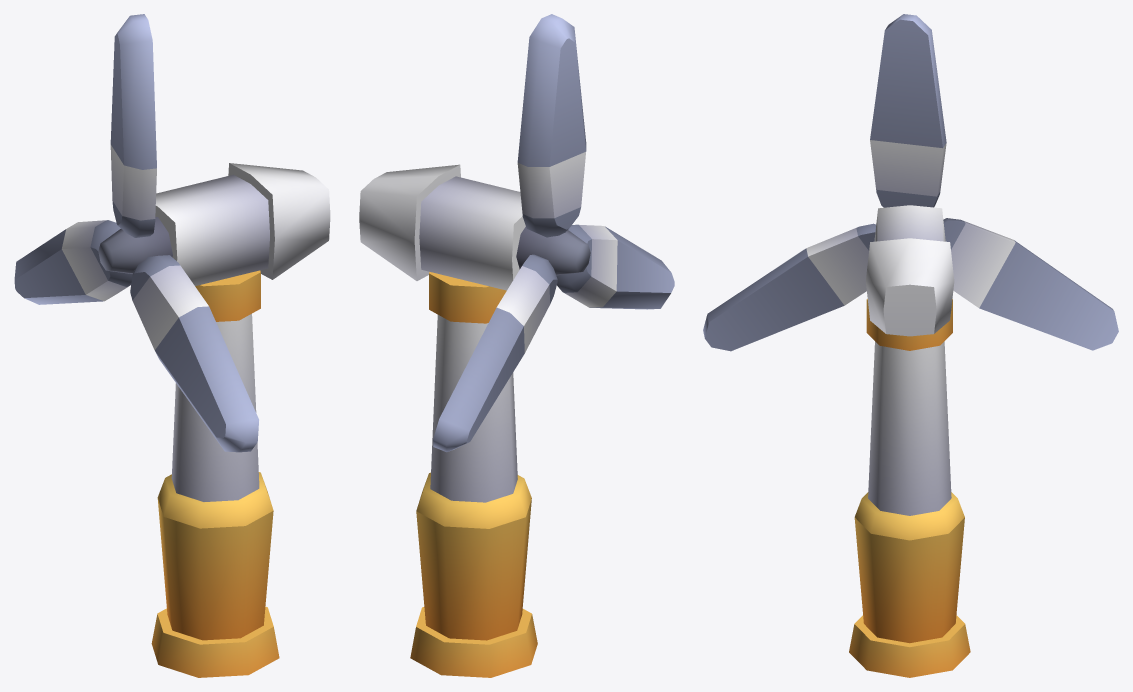
The model's file is windmill-low.glb.
3 renders of one model, left to right at view 1: azimuth 30°, elevation 25°; view 2: azimuth 150°, elevation 25°; view 3: azimuth 270°, elevation 25°, orthographic. The views are drawn at different scales.
Parts seen in each view (by area): view 1: windmill-low, blades; view 2: windmill-low, blades; view 3: windmill-low, blades.
Boxes of the visible parts, x1,y1,x2,y2 form: windmill-low: (98,163,330,677); blades: (14,14,258,452); windmill-low: (359,164,590,677); blades: (433,14,674,452); windmill-low: (849,205,970,677); blades: (703,14,1118,351).
Size of the model in its own units: 0.6047 by 1.79 by 1.13.
Materials: 1 (1 with a texture image).
